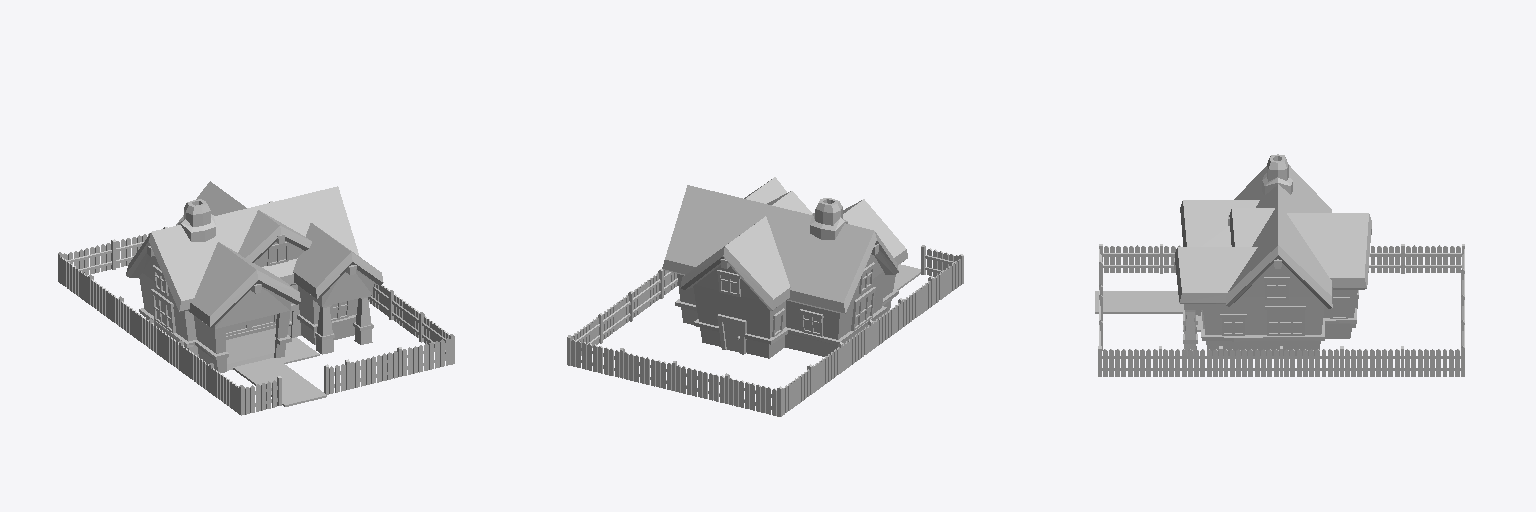
Rendered from House_07.obj.
3 views of the same model, side by side, from view 1: azimuth 30°, elevation 25°; view 2: azimuth 150°, elevation 25°; view 3: azimuth 270°, elevation 25° (orthographic).
Parts seen in each view (by area): view 1: House_07; view 2: House_07; view 3: House_07.
Boxes of the visible parts, x1,y1,x2,y2 form: House_07: [58, 181, 454, 415]; House_07: [567, 177, 963, 416]; House_07: [1095, 154, 1464, 376].
Bounding box in the file's own units: 623 × 375 × 923.